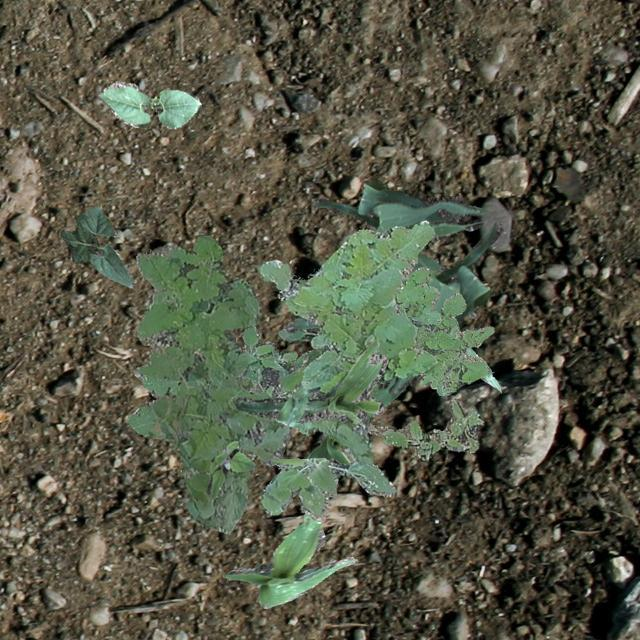crop: (284, 220, 502, 398), (312, 180, 484, 318), (232, 338, 386, 424), (225, 512, 356, 608), (307, 374, 395, 464), (60, 205, 134, 286), (96, 80, 200, 128), (244, 346, 332, 388), (274, 381, 318, 434), (465, 346, 499, 390)
weed: (124, 235, 288, 532), (258, 220, 436, 463), (393, 266, 492, 394), (260, 456, 394, 520), (366, 398, 482, 460), (240, 324, 304, 398), (206, 440, 254, 498), (278, 326, 320, 366)
